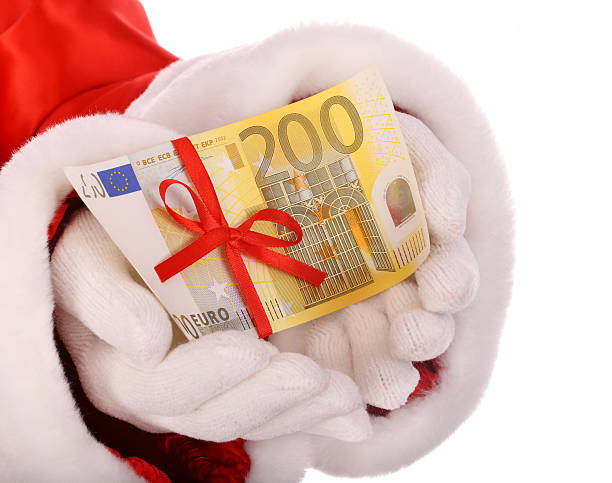billete: (62, 62, 434, 344)
